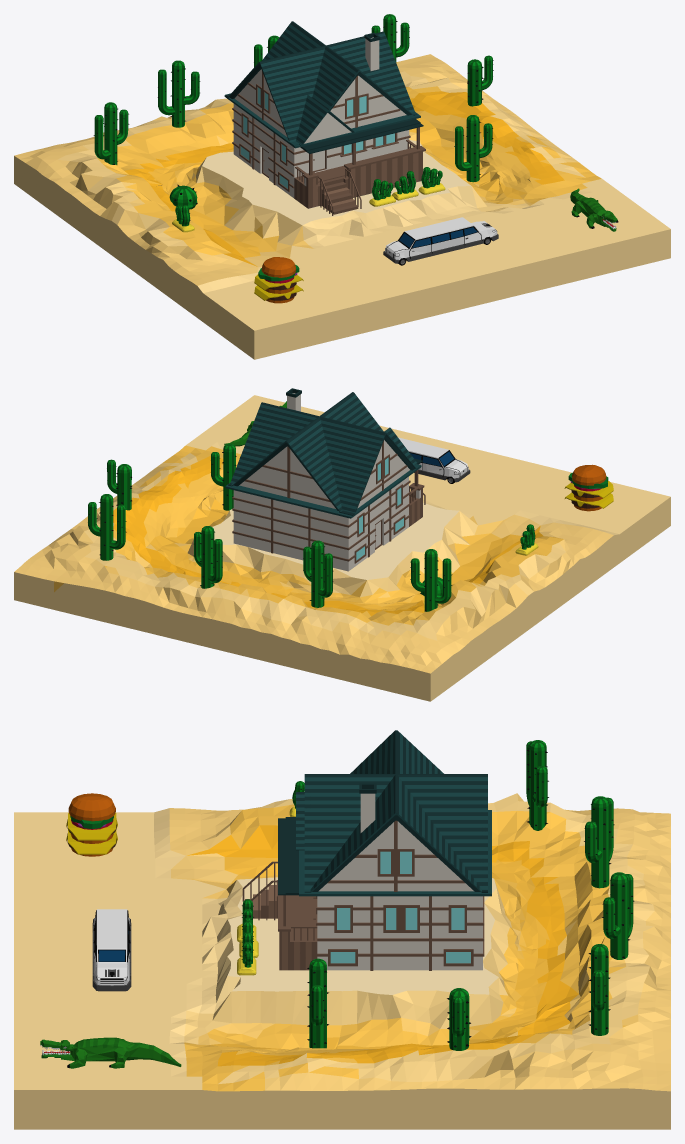
3 renders of one model, top to bottom at view 1: azimuth 30°, elevation 25°; view 2: azimuth 150°, elevation 25°; view 3: azimuth 270°, elevation 25°, orthographic. The views are drawn at different scales.
Visible parts, largest first — view 1: Cube.001, Cube.793, VEHICLES_LIMOUSINE, OBJRANDOM_HAMBURGER, Cylinder.037, Cylinder.044, Cylinder.045, ANIMAL_COCODRILO, Cylinder.038, Cylinder.042, Cylinder.039, Cylinder.041 (+2 smaller); view 2: Cube.001, Cube.793, OBJRANDOM_HAMBURGER, VEHICLES_LIMOUSINE, Cylinder.042, Cylinder.045, Cylinder.044, Cylinder.043, Cylinder.037, Cylinder.038; view 3: Cube.001, Cube.793, VEHICLES_LIMOUSINE, OBJRANDOM_HAMBURGER, ANIMAL_COCODRILO, Cylinder.043, Cylinder.044, Cylinder.045, Cylinder.042, Cylinder.037, Cylinder.038, Cylinder.041.
Boxes of the visible parts, x1=… form: Cube.001: x1=14, y1=54, x2=670, y2=359; Cube.793: x1=224, y1=21, x2=425, y2=215; VEHICLES_LIMOUSINE: x1=383, y1=217, x2=498, y2=265; OBJRANDOM_HAMBURGER: x1=254, y1=257, x2=303, y2=303; Cylinder.037: x1=454, y1=115, x2=493, y2=182; Cylinder.044: x1=157, y1=60, x2=200, y2=127; Cylinder.045: x1=93, y1=102, x2=129, y2=164; ANIMAL_COCODRILO: x1=570, y1=188, x2=618, y2=231; Cylinder.038: x1=467, y1=55, x2=493, y2=106; Cylinder.042: x1=371, y1=14, x2=409, y2=62; Cylinder.039: x1=369, y1=179, x2=395, y2=206; Cylinder.041: x1=418, y1=167, x2=445, y2=194; Cube.001: x1=14, y1=395, x2=670, y2=701; Cube.793: x1=225, y1=388, x2=425, y2=571; OBJRANDOM_HAMBURGER: x1=564, y1=464, x2=613, y2=511; VEHICLES_LIMOUSINE: x1=398, y1=437, x2=470, y2=483; Cylinder.042: x1=88, y1=494, x2=126, y2=560; Cylinder.045: x1=410, y1=549, x2=452, y2=611; Cylinder.044: x1=303, y1=540, x2=333, y2=607; Cylinder.043: x1=193, y1=526, x2=222, y2=588; Cylinder.037: x1=211, y1=444, x2=240, y2=510; Cylinder.038: x1=107, y1=459, x2=131, y2=510; Cube.001: x1=14, y1=793, x2=670, y2=1129; Cube.793: x1=242, y1=730, x2=491, y2=970; VEHICLES_LIMOUSINE: x1=92, y1=909, x2=131, y2=991; OBJRANDOM_HAMBURGER: x1=66, y1=793, x2=117, y2=856; ANIMAL_COCODRILO: x1=40, y1=1037, x2=181, y2=1068; Cylinder.043: x1=602, y1=872, x2=634, y2=959; Cylinder.044: x1=584, y1=796, x2=614, y2=888; Cylinder.045: x1=526, y1=740, x2=548, y2=830; Cylinder.042: x1=588, y1=944, x2=610, y2=1035; Cylinder.037: x1=307, y1=958, x2=328, y2=1048; Cylinder.038: x1=447, y1=988, x2=471, y2=1050; Cylinder.041: x1=237, y1=932, x2=256, y2=975.
Size of the model in its own units: 4002 by 1600 by 4001.
30 materials, 3 textured.
